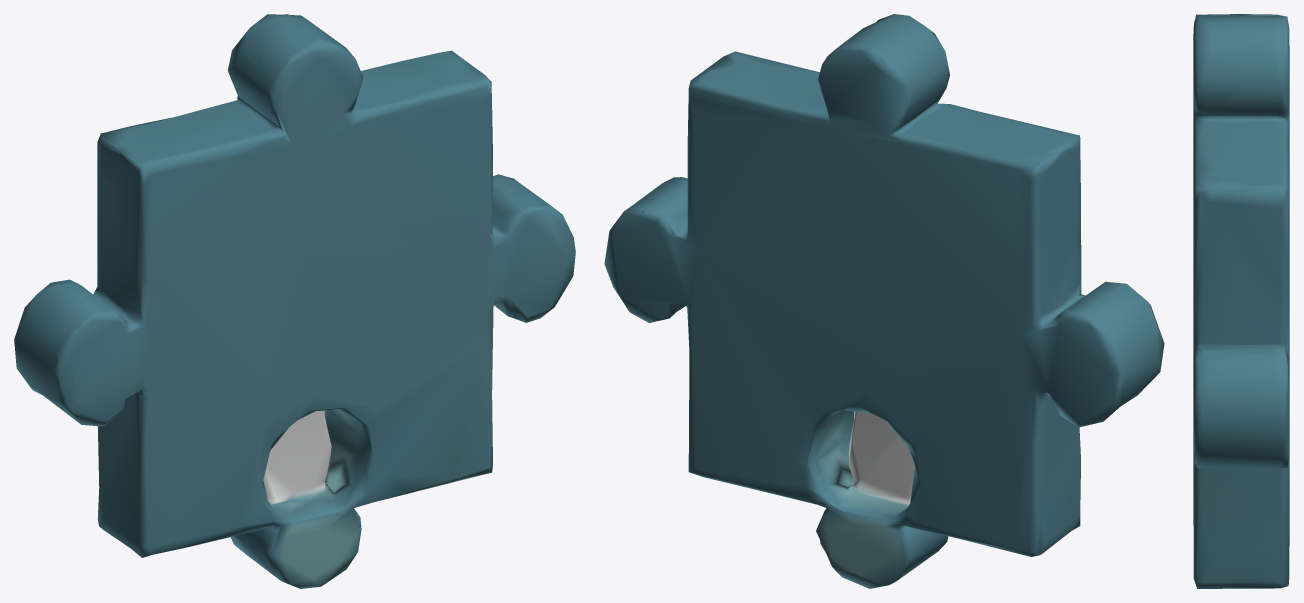
The model's file is gen3d-puzzle-piece-lod0.glb.
The picture shows the model from 3 angles, left to right: view 1: azimuth 30°, elevation 25°; view 2: azimuth 150°, elevation 25°; view 3: azimuth 270°, elevation 25°; orthographic projection. The views are drawn at different scales.
Parts seen in each view (by area): view 1: part_0; view 2: part_0; view 3: part_0.
Boxes of the visible parts, <box> form: part_0: <box>14,14,575,588</box>; part_0: <box>604,14,1164,588</box>; part_0: <box>1193,14,1289,588</box>.
Size of the model in its own units: 1 by 0.9999 by 0.1568.
